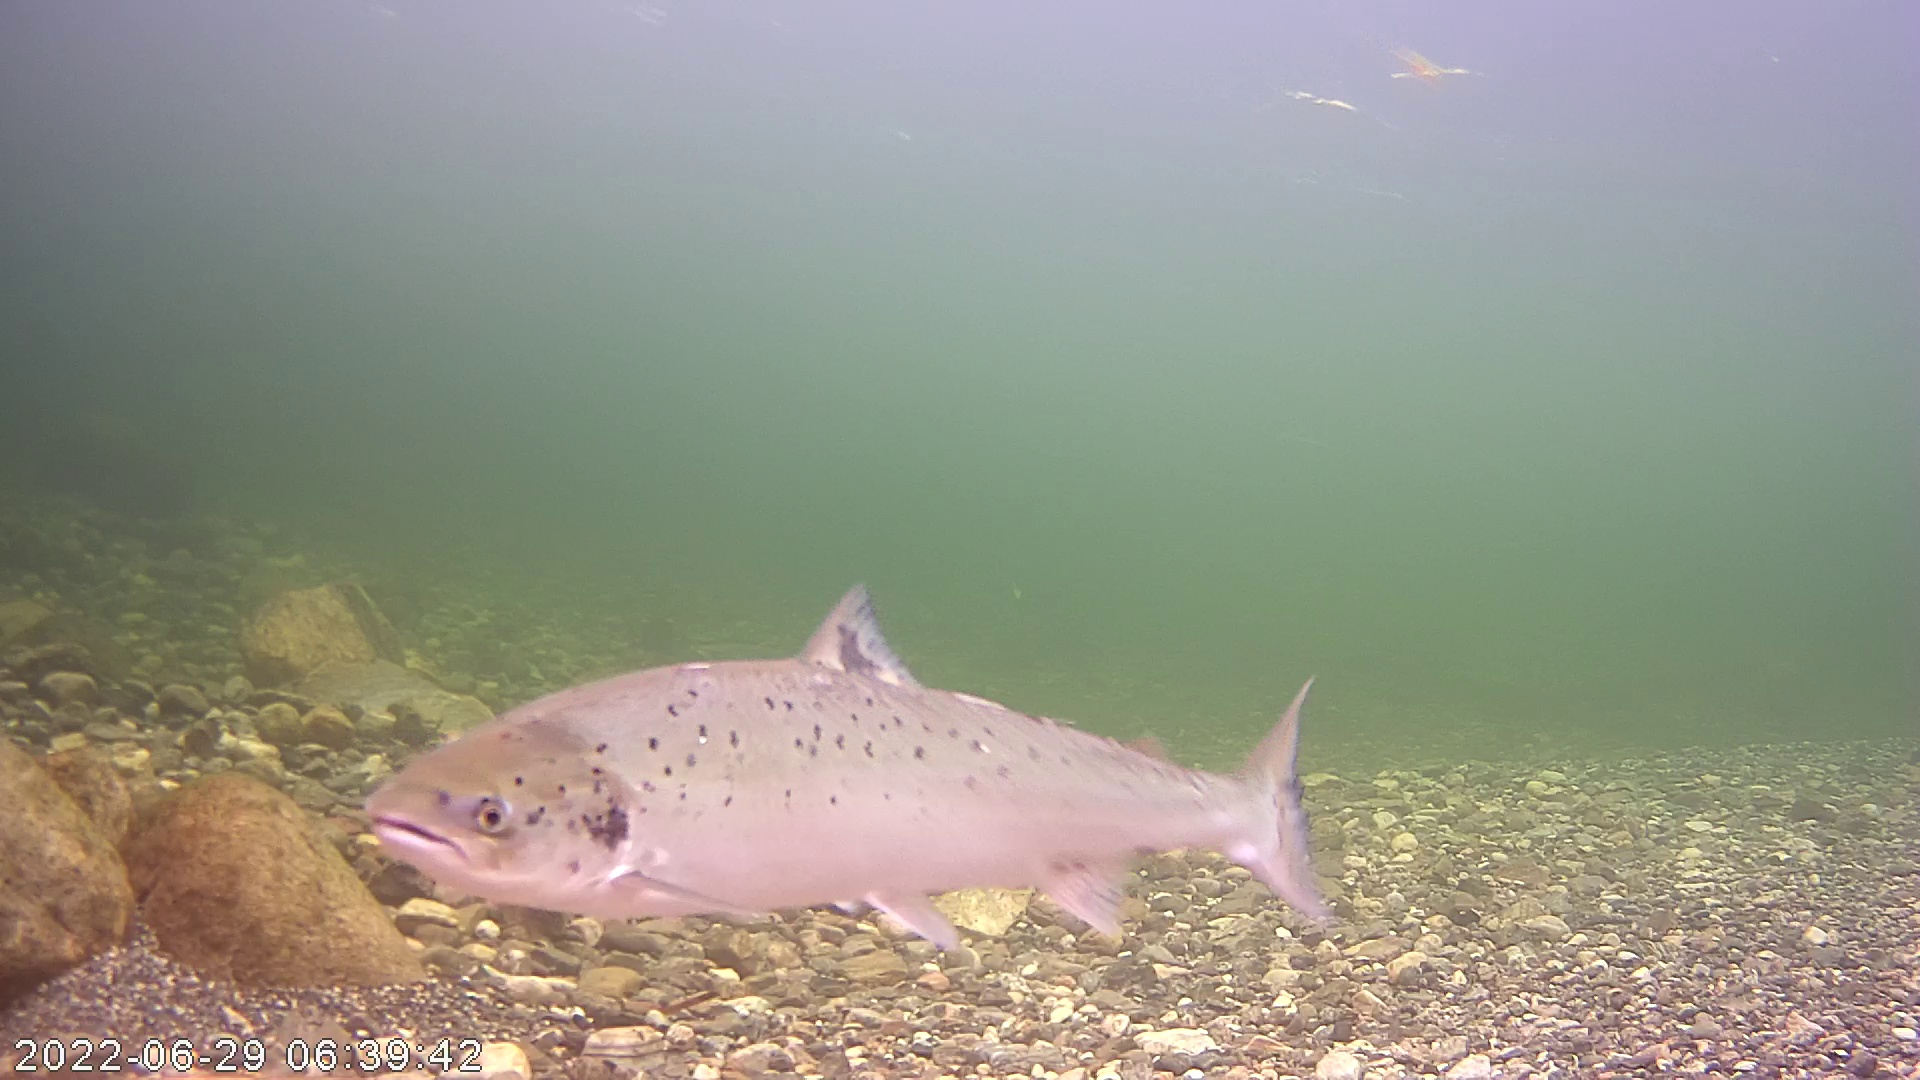salmon: (397, 541, 1340, 961)
